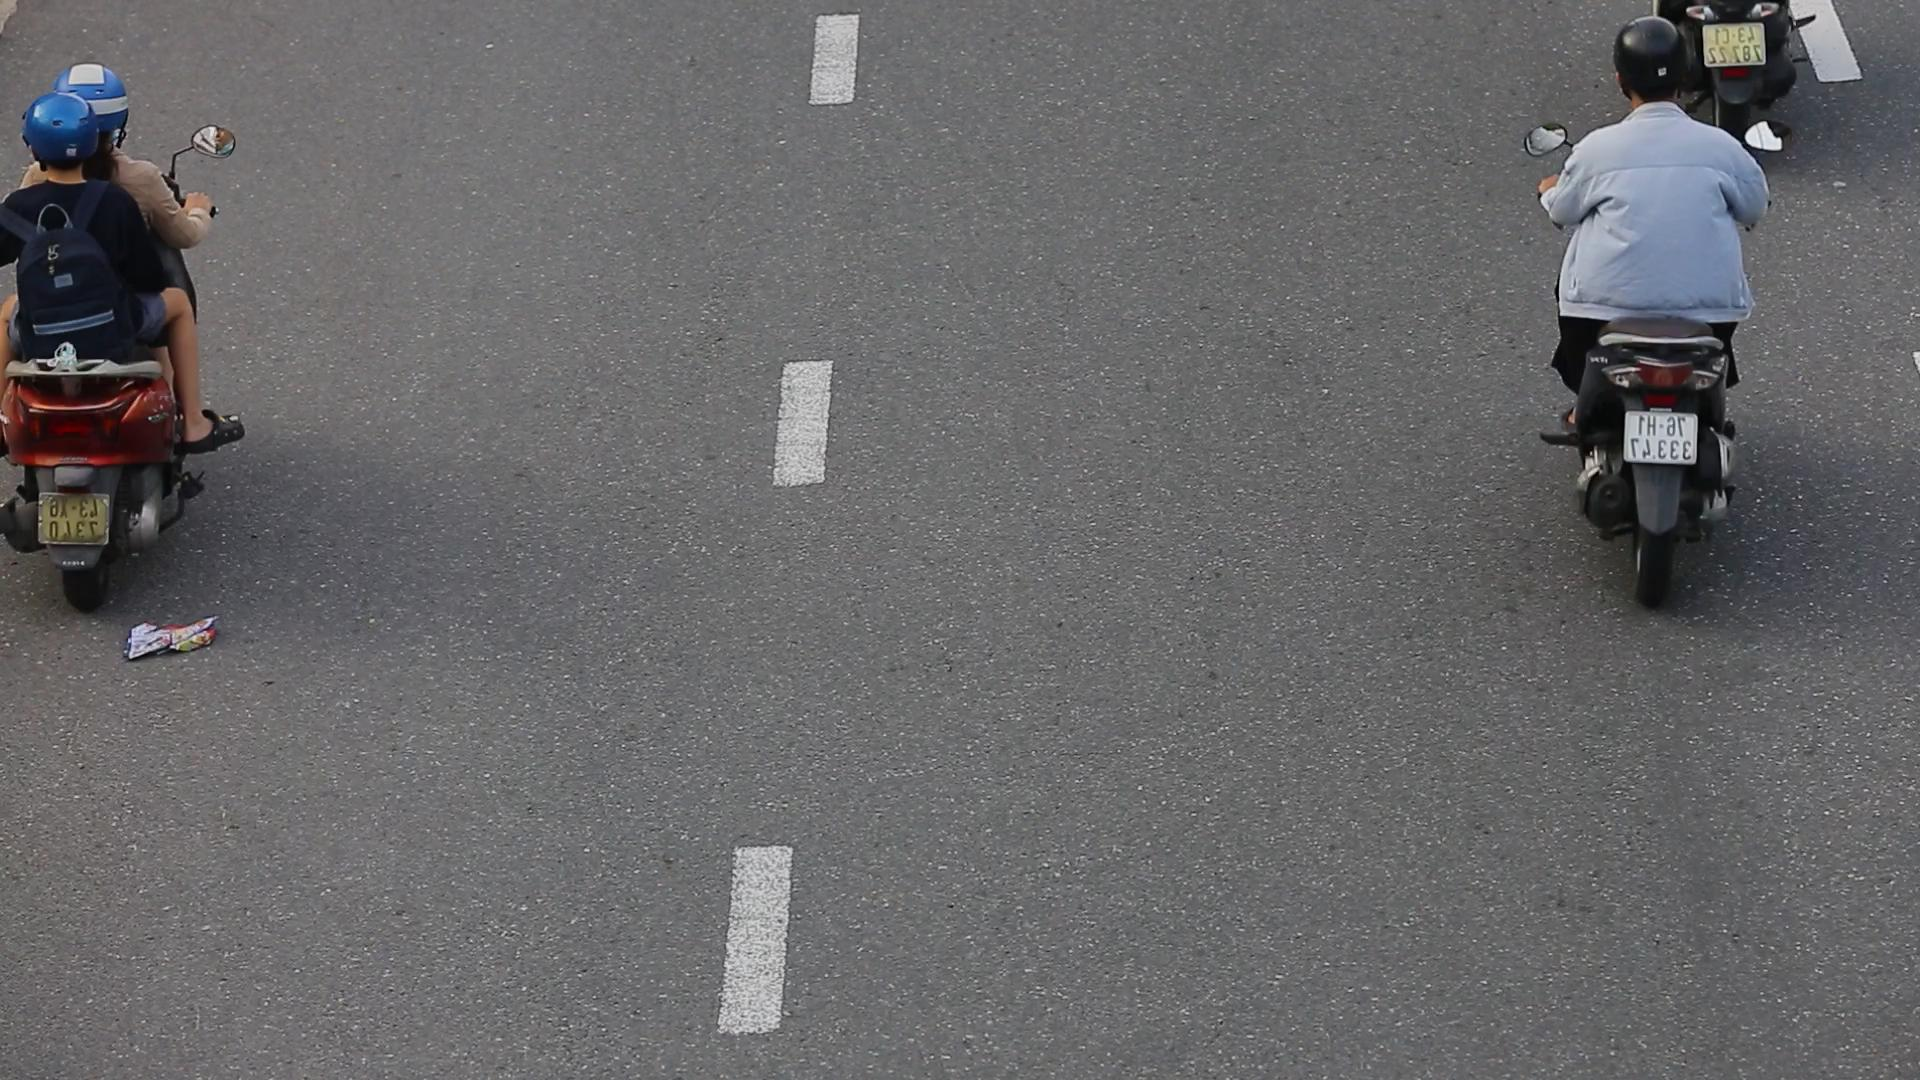motobike: (1514, 17, 1791, 626), (5, 59, 251, 626)
